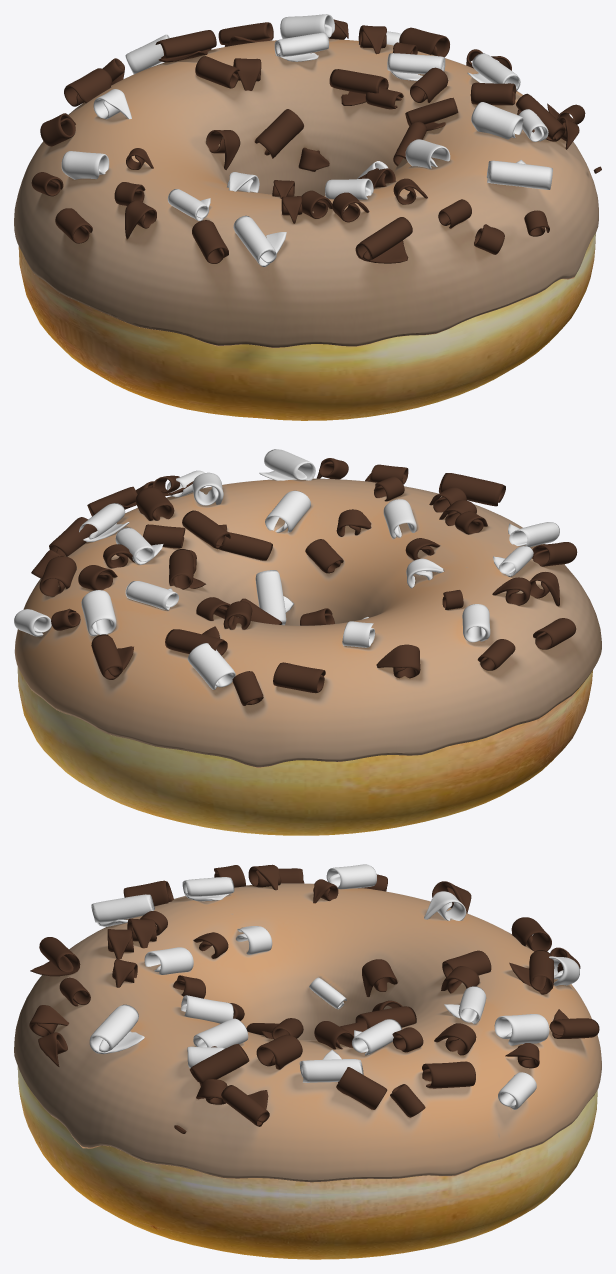
Rendered from light two in one curls.glb.
3 renders of one model, top to bottom at view 1: azimuth 30°, elevation 25°; view 2: azimuth 150°, elevation 25°; view 3: azimuth 270°, elevation 25°, orthographic. The views are drawn at different scales.
Visible parts, largest first — view 1: coffee.001, light, two in one curls, Torus; view 2: light, coffee.001, two in one curls, Torus; view 3: light, coffee.001, two in one curls, Torus.
Part boxes in pixels (x1,y1,x2,y2): coffee.001: (14, 39, 598, 347); light: (15, 39, 598, 348); two in one curls: (31, 14, 601, 267); Torus: (18, 233, 595, 420); light: (15, 479, 585, 767); coffee.001: (14, 478, 601, 767); two in one curls: (14, 449, 577, 705); Torus: (17, 667, 592, 835); light: (48, 883, 601, 1182); coffee.001: (14, 883, 601, 1182); two in one curls: (29, 864, 599, 1133); Torus: (17, 1066, 597, 1259).
Size of the model in its own units: 0.1989 by 0.0804 by 0.1972.
5 materials, 2 textured.
